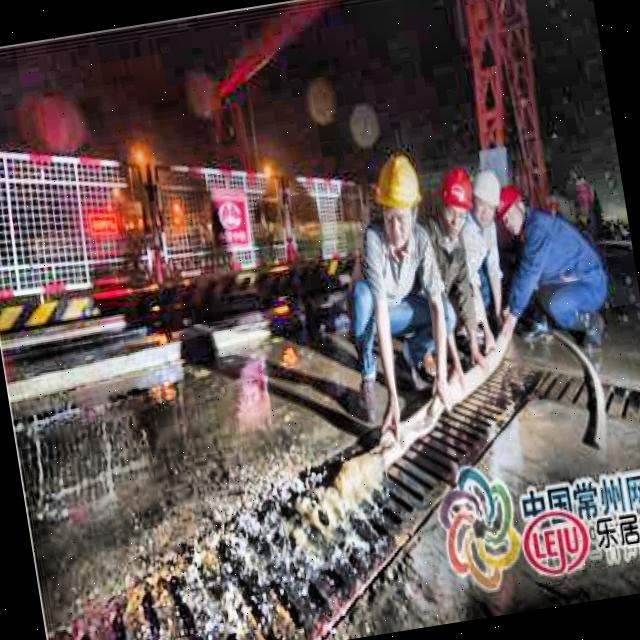helmet: (373, 148, 430, 260), (439, 168, 479, 234), (470, 164, 507, 230), (490, 178, 527, 240)
